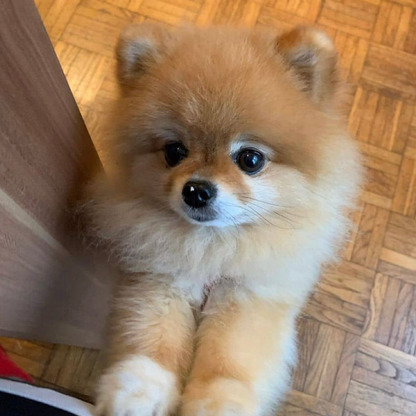Pomeranian: (92, 30, 363, 387)
